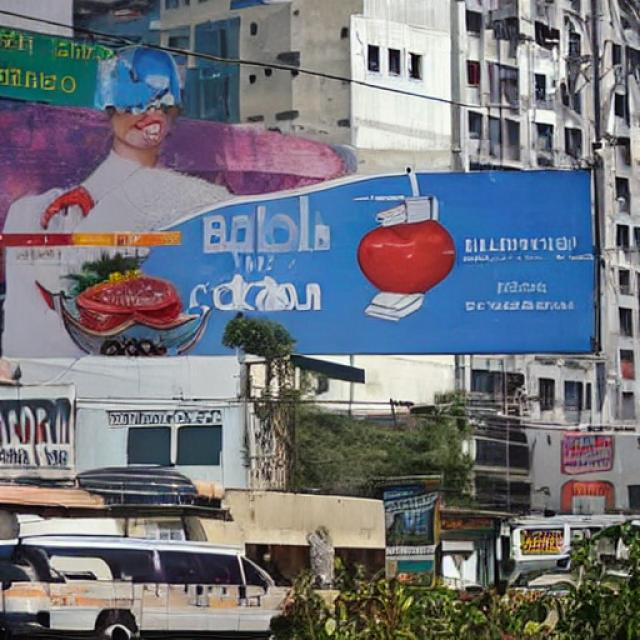Billboard: (0, 44, 604, 356)
